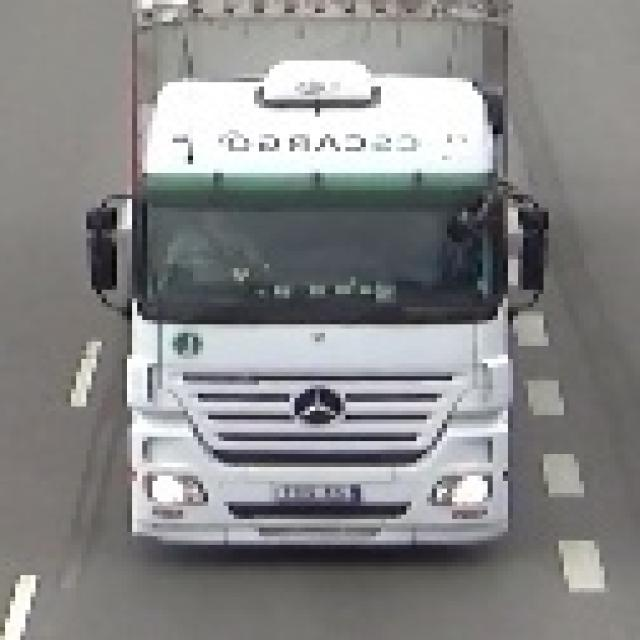TRUCK: (92, 1, 544, 568)
